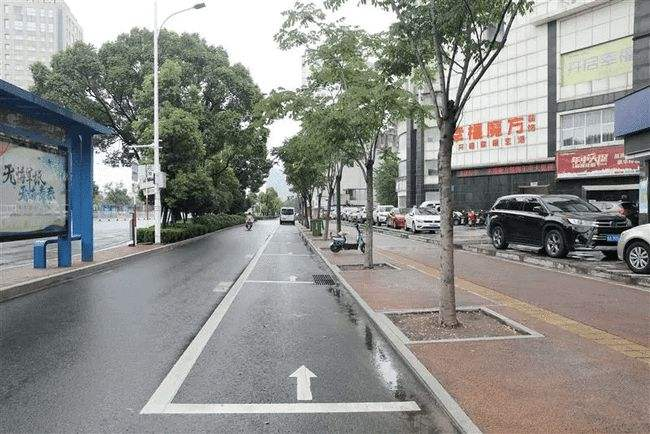slot_nocar: (71, 266, 433, 419), (229, 244, 339, 290), (251, 235, 324, 263)
